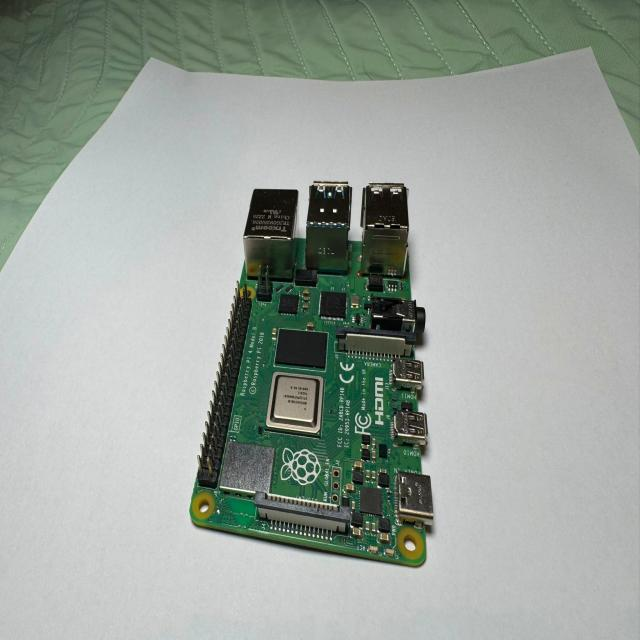CPU: (261, 372, 327, 439)
Ethernet: (241, 185, 304, 283)
GPIO: (193, 280, 256, 492), (388, 354, 430, 392)
RAM: (272, 326, 330, 369)
Raspberry: (189, 176, 437, 567)
micro-hdmi: (393, 411, 433, 446)
